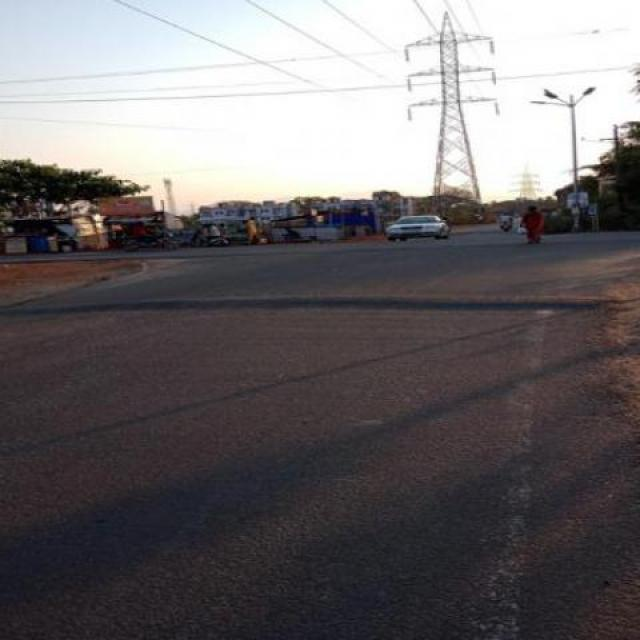Unmarked Bump: (1, 292, 614, 316)
